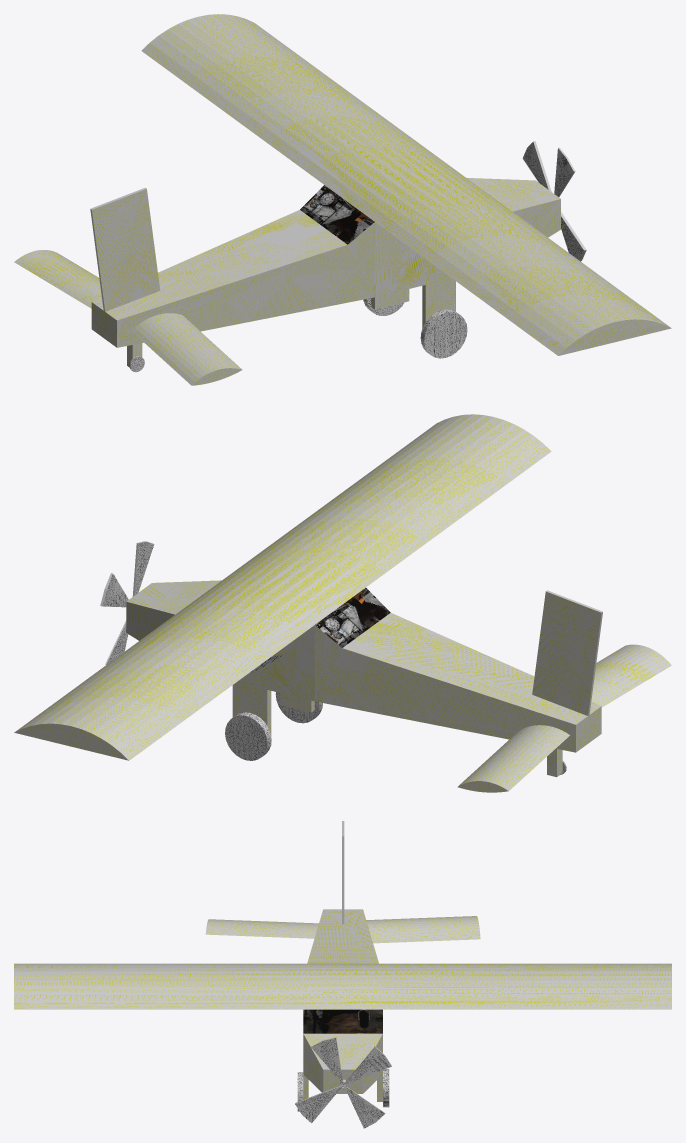
3 renders of one model, top to bottom at view 1: azimuth 30°, elevation 25°; view 2: azimuth 150°, elevation 25°; view 3: azimuth 270°, elevation 25°, orthographic. The views are drawn at different scales.
Visible parts, largest first — view 1: mesh1_mesh1-geometry, mesh3_mesh3-geometry; view 2: mesh1_mesh1-geometry, mesh4_mesh4-geometry, mesh3_mesh3-geometry; view 3: mesh1_mesh1-geometry.
Boxes of the visible parts, left/top/right/bottom form: mesh1_mesh1-geometry: left=14, top=14, right=671, bottom=385; mesh3_mesh3-geometry: left=420, top=309, right=467, bottom=358; mesh1_mesh1-geometry: left=14, top=414, right=671, bottom=792; mesh4_mesh4-geometry: left=225, top=712, right=271, bottom=760; mesh3_mesh3-geometry: left=275, top=692, right=322, bottom=723; mesh1_mesh1-geometry: left=14, top=821, right=671, bottom=1128.
Size of the model in its own units: 0.5265 by 0.2323 by 0.8178.
